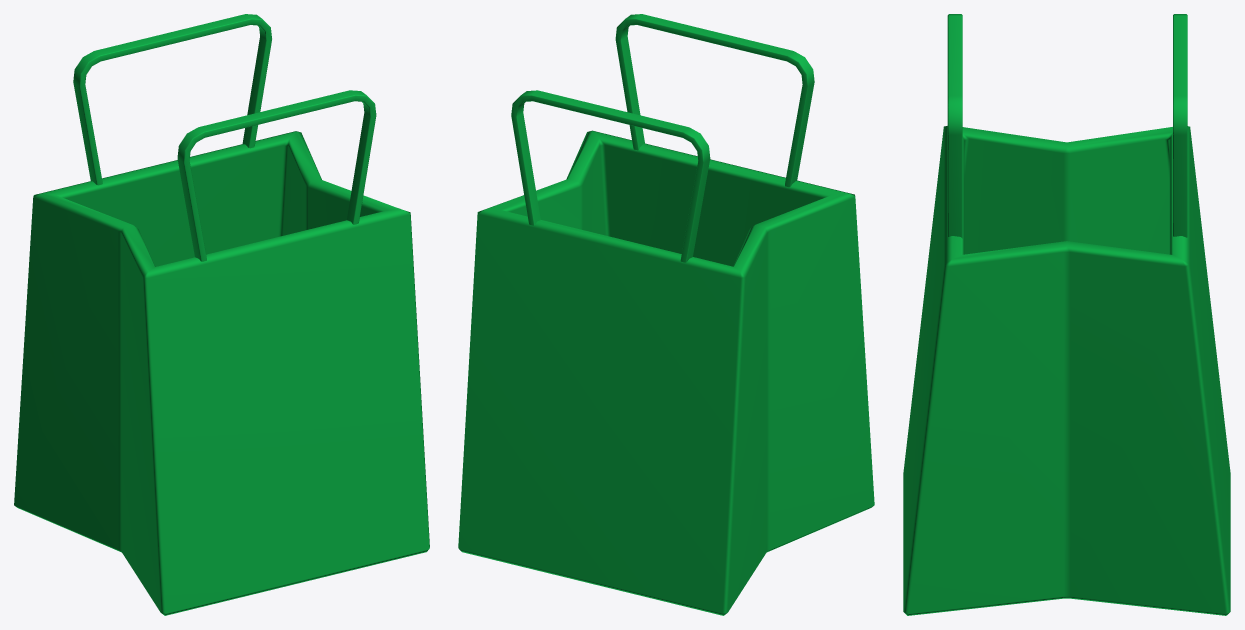
Rendered from Public_6_Package_2.glb.
The picture shows the model from 3 angles, left to right: view 1: azimuth 30°, elevation 25°; view 2: azimuth 150°, elevation 25°; view 3: azimuth 270°, elevation 25°; orthographic projection. The views are drawn at different scales.
Visible parts, largest first — view 1: Public_6_Package_2; view 2: Public_6_Package_2; view 3: Public_6_Package_2.
Part boxes in pixels (x1=…): Public_6_Package_2: x1=14, y1=14, x2=429, y2=615; Public_6_Package_2: x1=458, y1=14, x2=874, y2=615; Public_6_Package_2: x1=903, y1=14, x2=1230, y2=615.
Size of the model in its own units: 1.3 by 2.1 by 1.27.
1 material, 1 textured.
